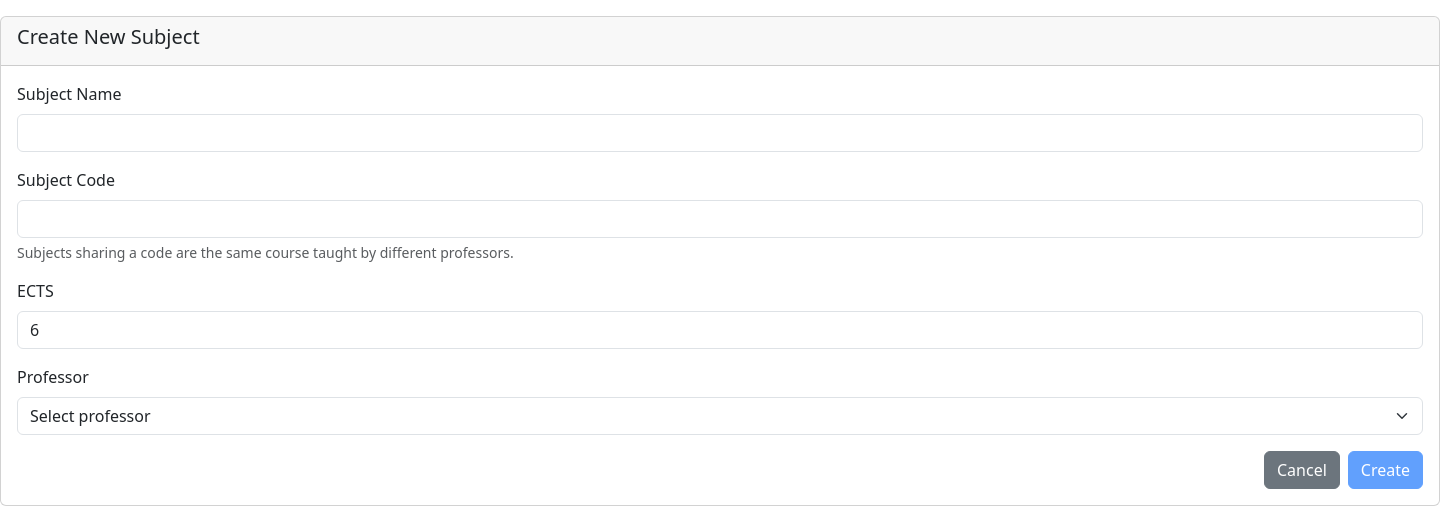
Scenario: SubjectCreateForm — SubjectCode field (UI §8.4) › keeps the Create button disabled until the form is valid
Expected: the button "Create" is disabled, [1348,451,1423,489]
Type "Databases" into the field labelled "Subject Name".
click(720, 133); type("Databases")  # box [17,114,1423,152]
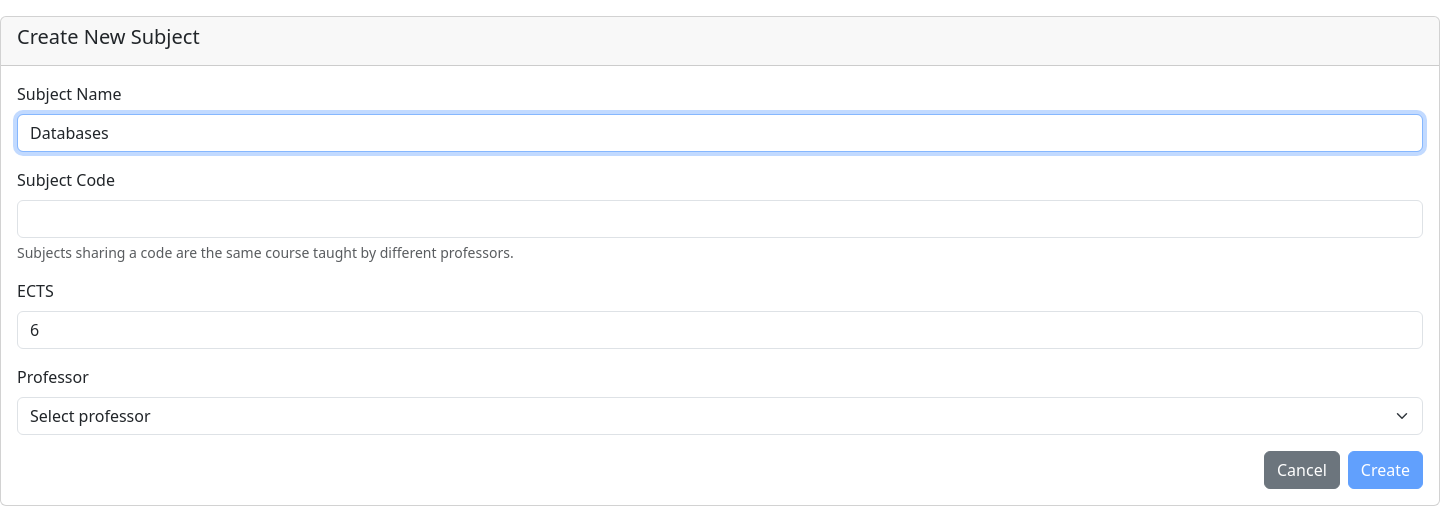
Type "CS101" into the field labelled "Subject Code".
click(720, 219); type("CS101")  # box [17,200,1423,238]
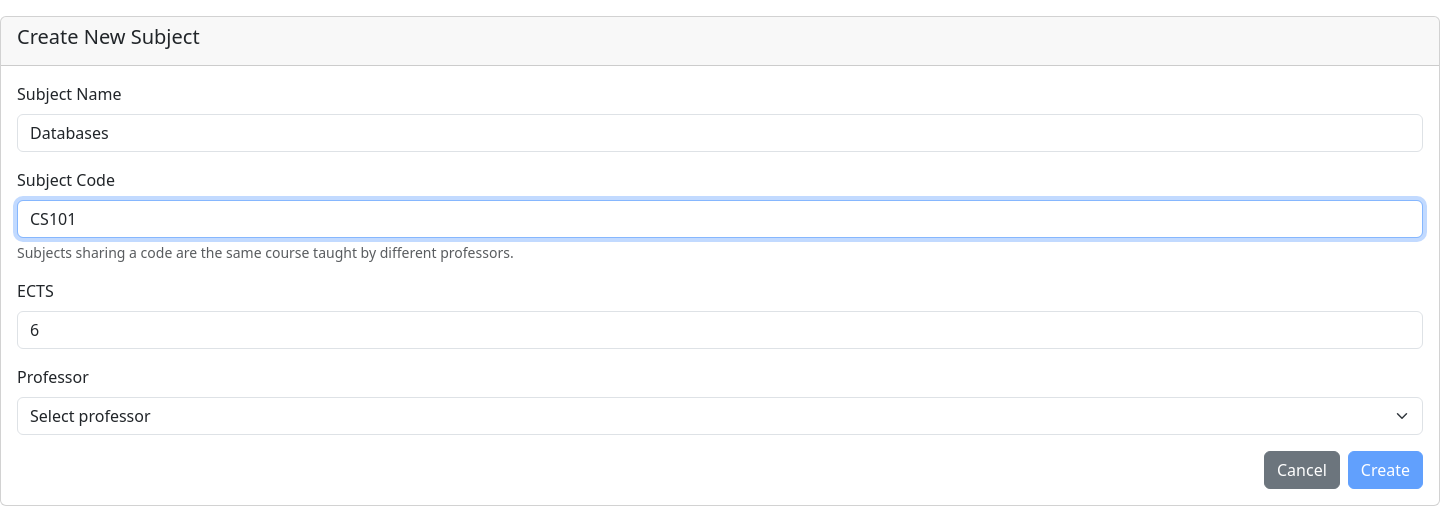
Select "Ana Anić" in the dropdown labelled "Professor" at (720, 416), box [17,397,1423,435]
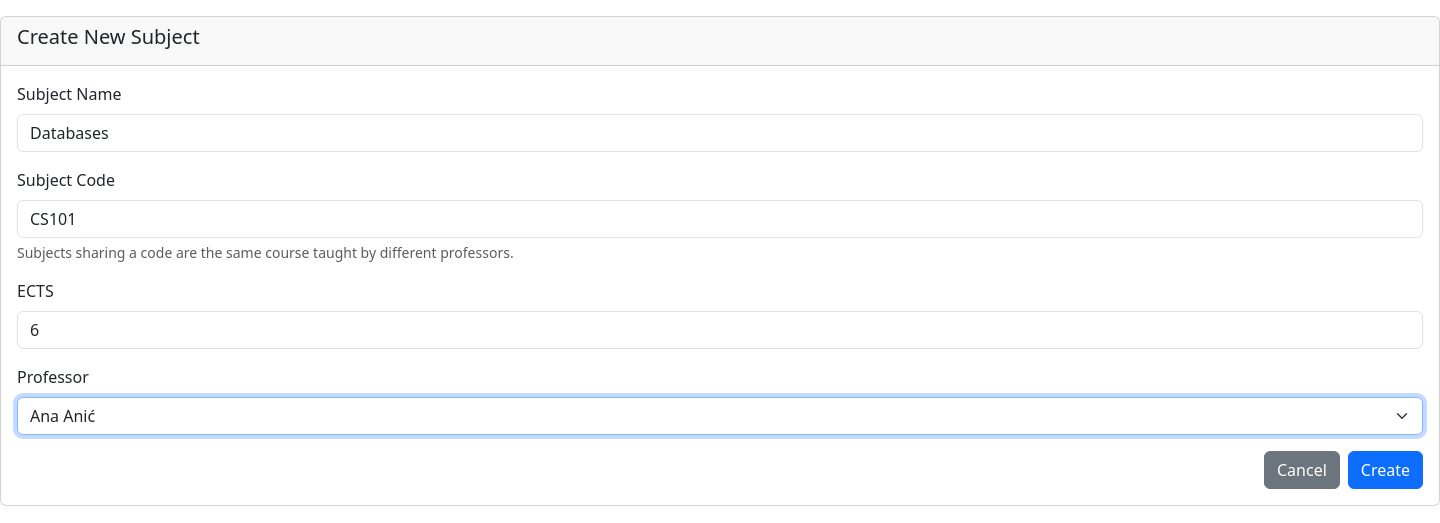
Now the button "Create" is enabled, box [1348,451,1423,489]
